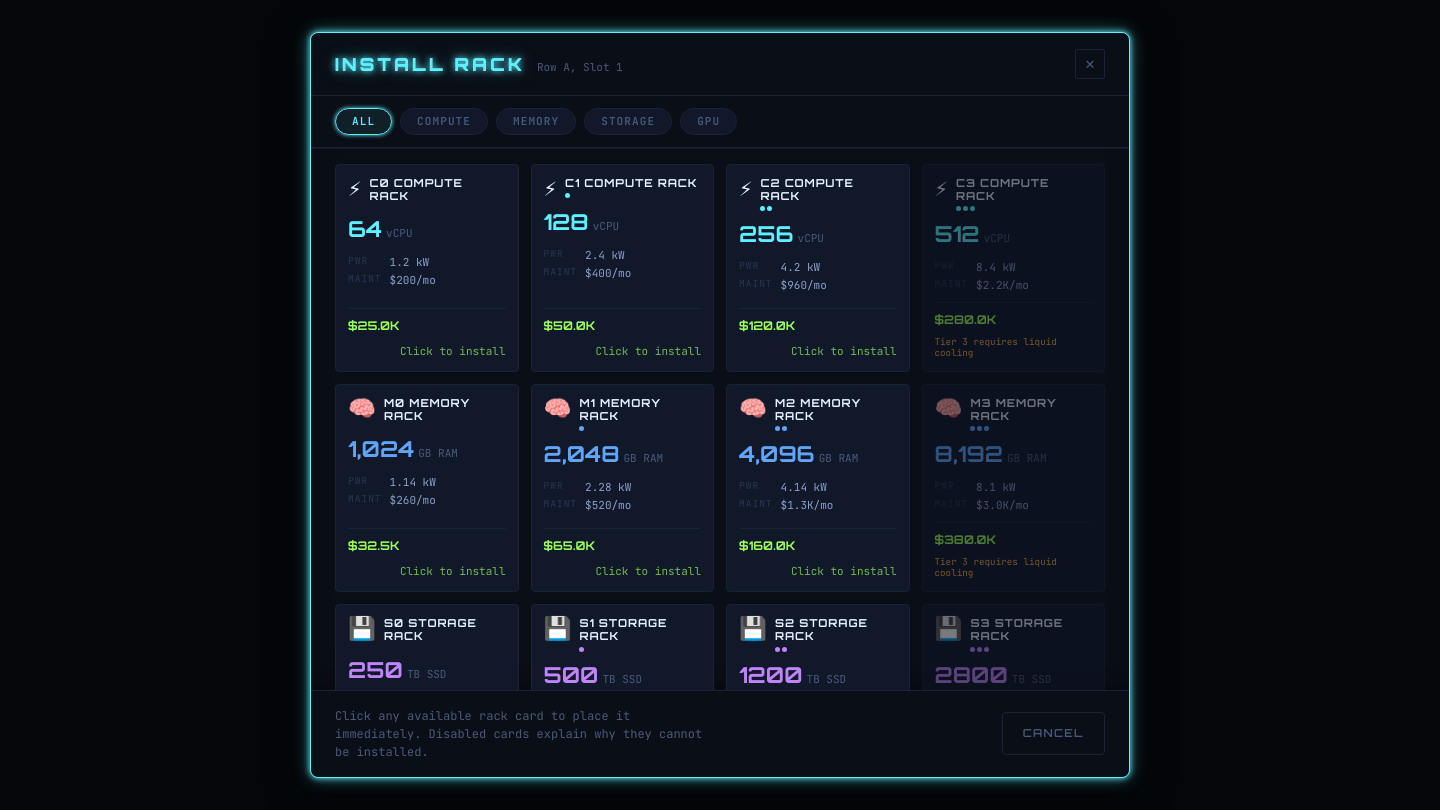
Scenario: RackPicker › filters to compute-only when COMPUTE chip is clicked
Click the button "COMPUTE" at coordinates (444, 122), box [400,108,488,135]
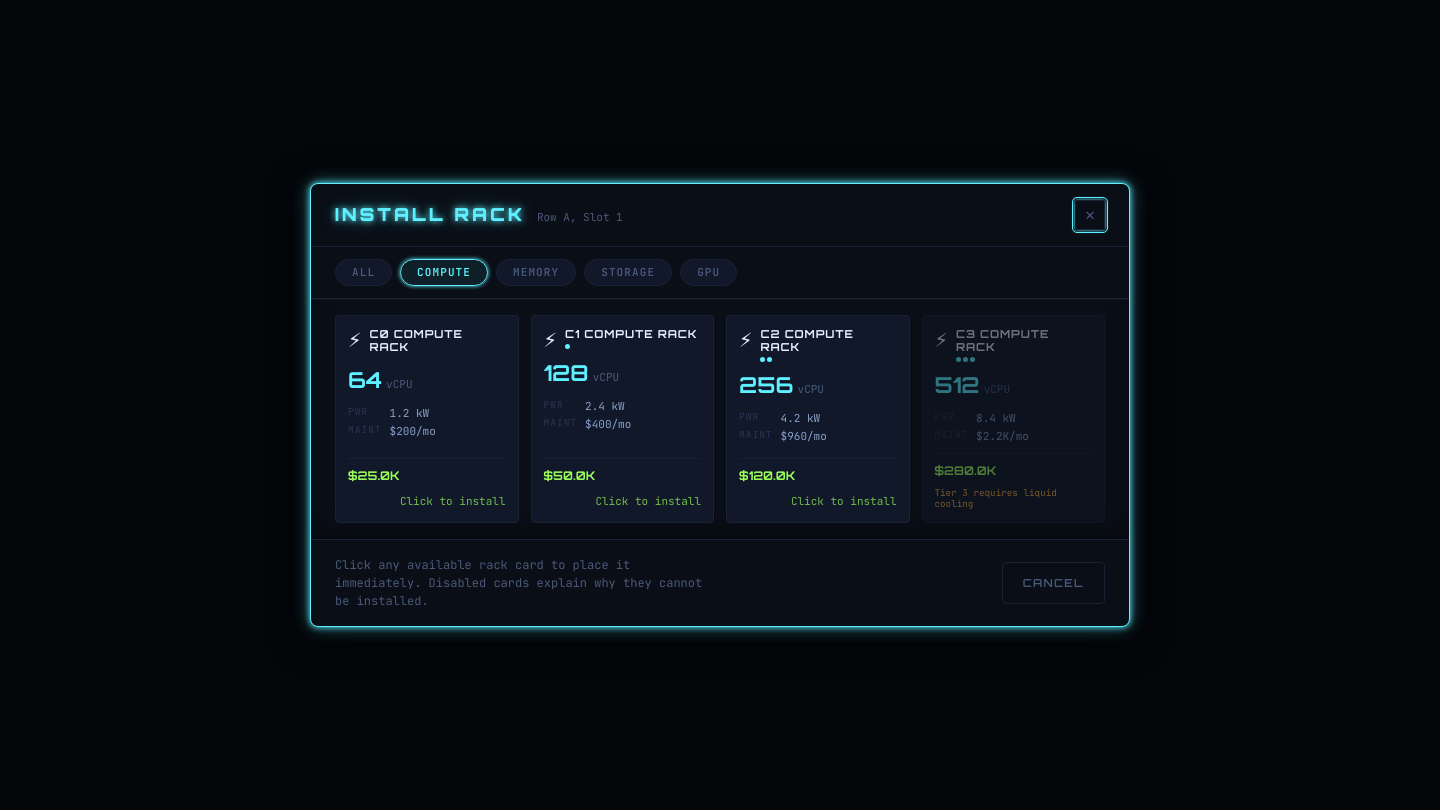
Expected: the text "C0 Compute Rack" is shown, [370,327,463,354]
Expected: the button "M0 Memory Rack" is gone
